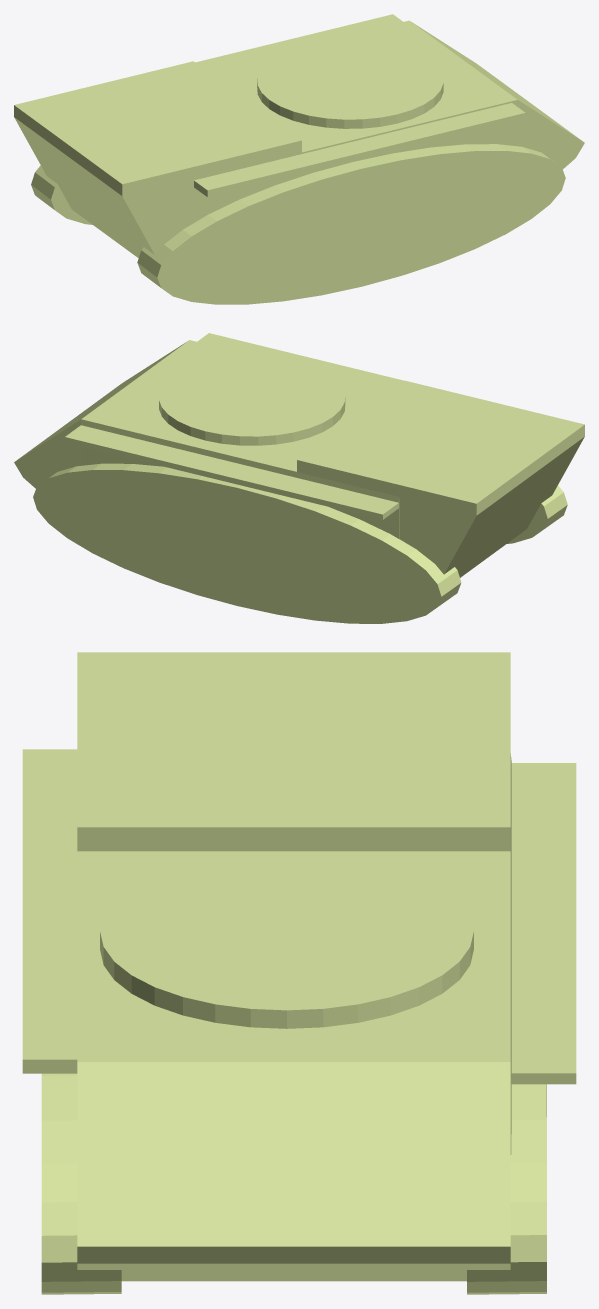
The model's file is tank.fbx.
3 views of the same model, one above another, from view 1: azimuth 30°, elevation 25°; view 2: azimuth 150°, elevation 25°; view 3: azimuth 270°, elevation 25° (orthographic). The views are drawn at different scales.
Visible parts, largest first — view 1: Cube; view 2: Cube; view 3: Cube.
Part boxes in pixels (bbox=[...]): Cube: bbox=[14, 14, 584, 304]; Cube: bbox=[14, 333, 584, 623]; Cube: bbox=[22, 652, 576, 1294].
Bounding box in the file's own units: 745 × 234 × 386.
